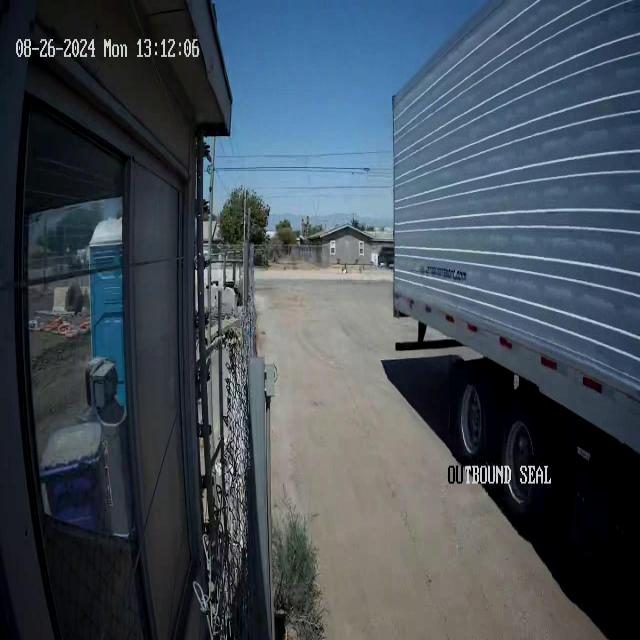CONTAINER: (390, 1, 640, 458)
